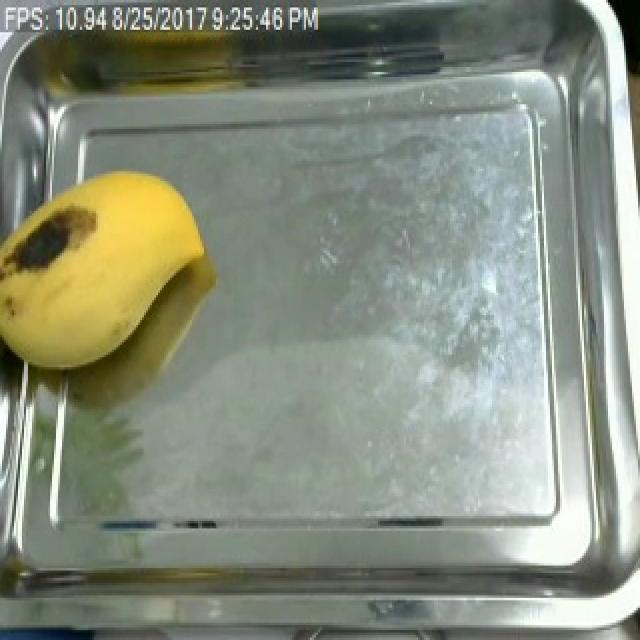fruit: (0, 159, 218, 384)
